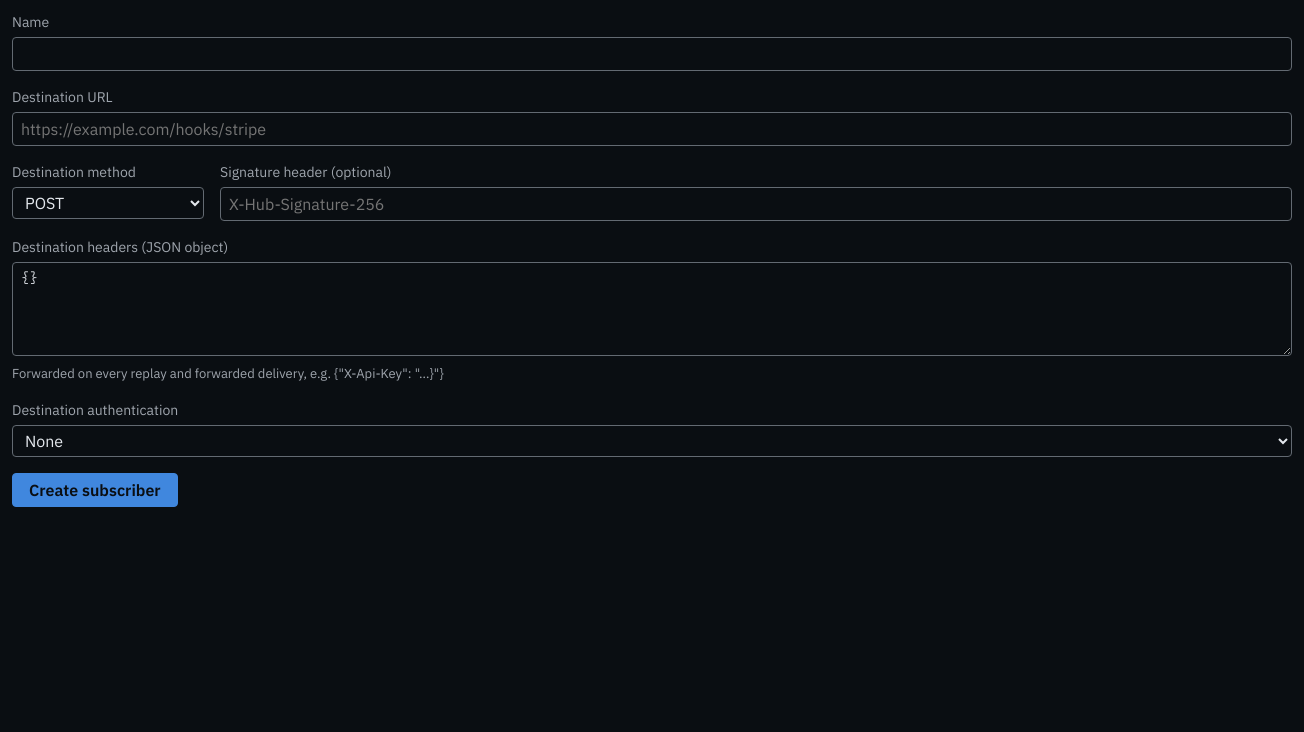
Test case: SubscriberForm › renders the blank create form and reports empty required fields on submit
The image size is (1304, 732).
Click the button "Create subscriber".
click(95, 490)  # box [12, 472, 178, 506]
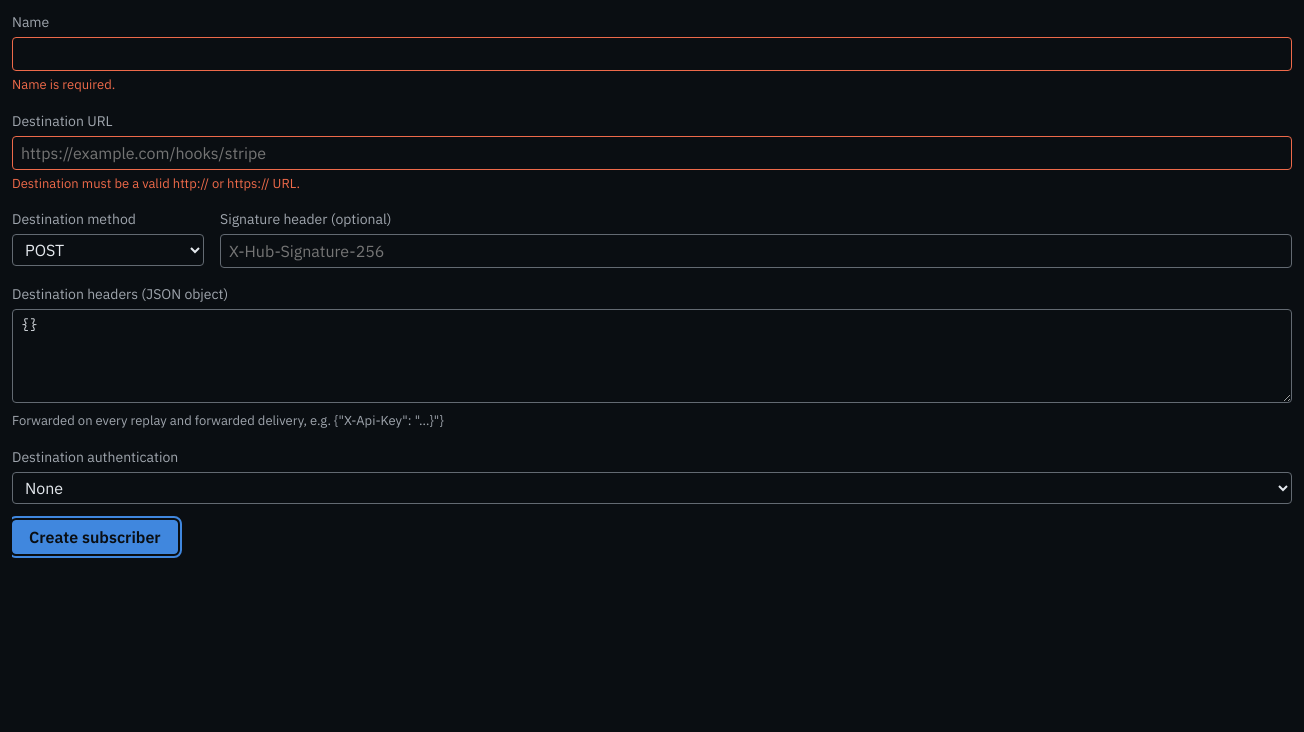
Check: the text "Name is required." is shown, box [12, 76, 115, 93]
Check: the text "Destination must be a valid http:// or https:// URL." is shown, box [12, 174, 300, 192]
